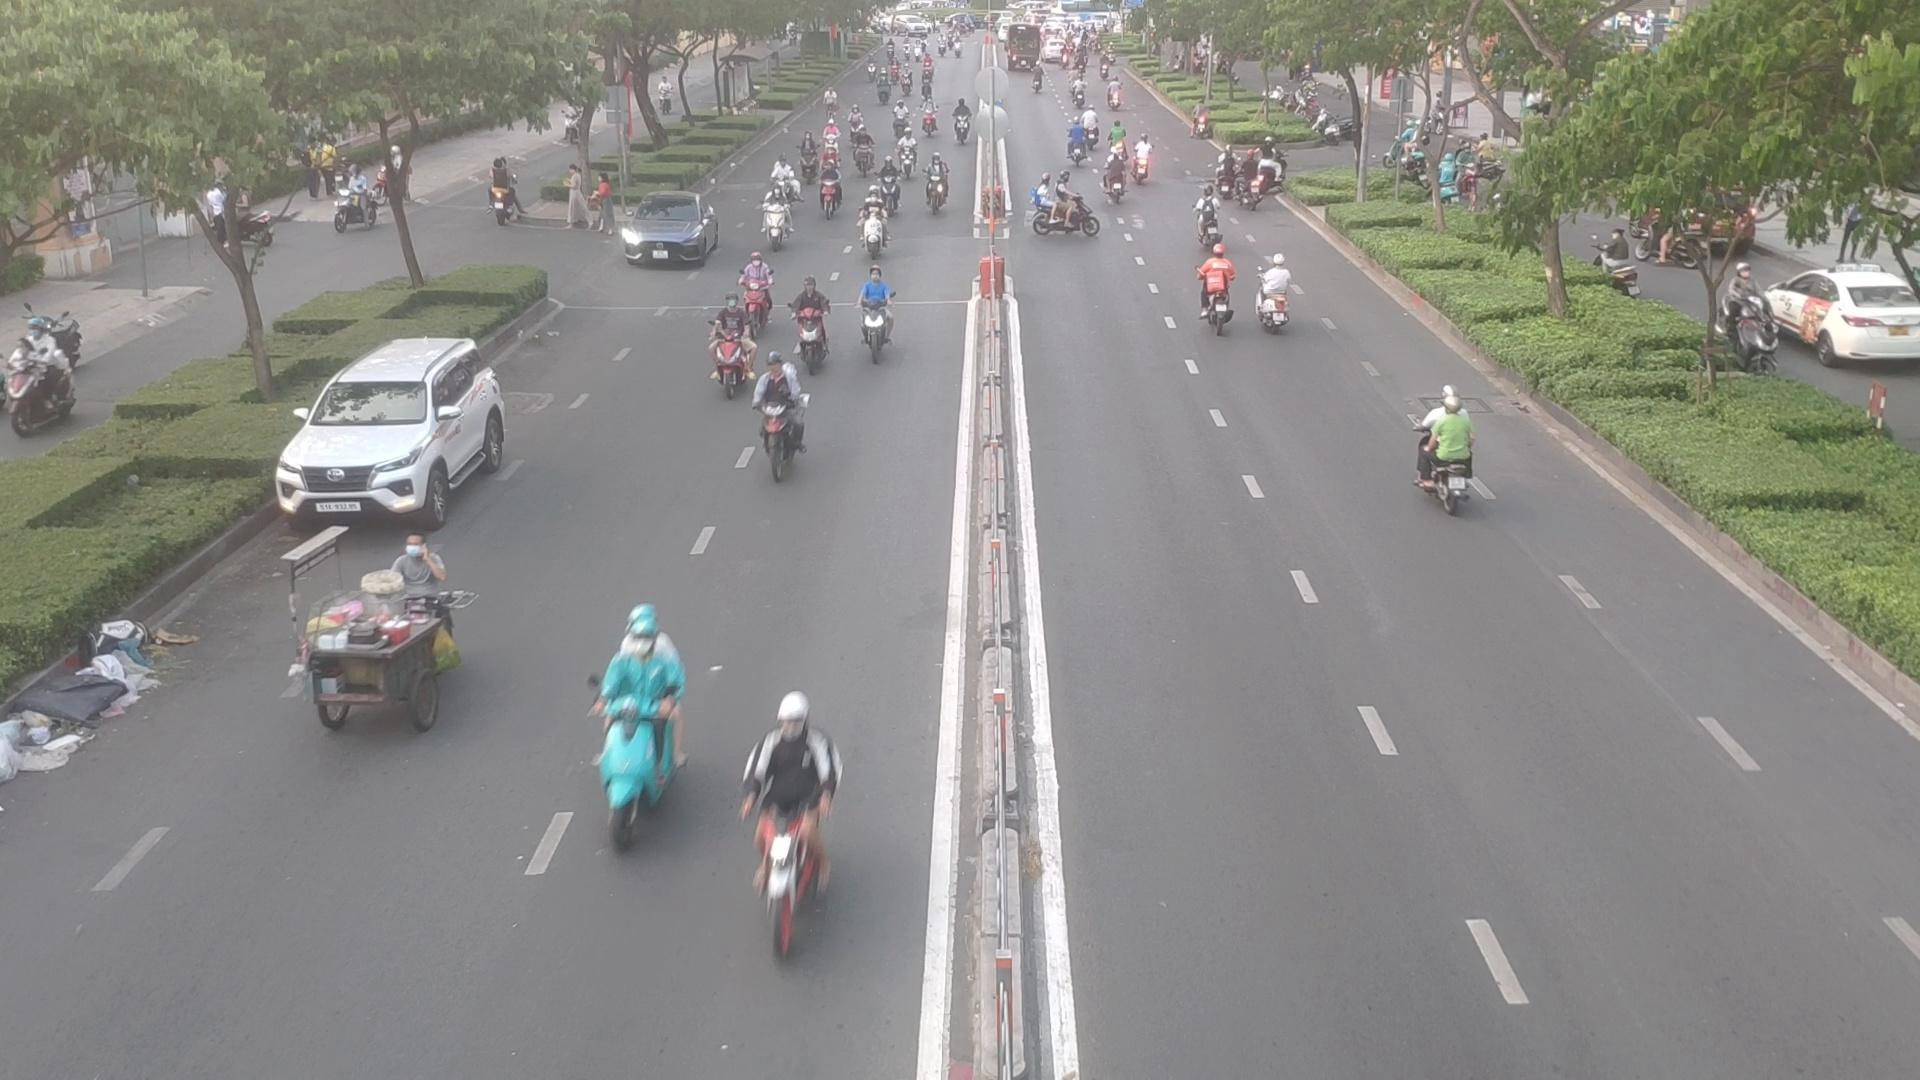car: (282, 331, 520, 522), (612, 196, 721, 269)
motorbike: (585, 615, 688, 848), (746, 699, 845, 893), (1404, 394, 1490, 514), (754, 349, 820, 483), (695, 297, 757, 392), (852, 272, 902, 363), (1033, 185, 1104, 244), (1196, 255, 1245, 335), (794, 278, 839, 361), (1257, 260, 1302, 336), (731, 255, 775, 324), (1230, 146, 1265, 210), (855, 200, 890, 258), (1197, 185, 1229, 247), (758, 196, 793, 251), (916, 166, 948, 218), (1097, 156, 1127, 204), (1127, 138, 1158, 186), (819, 167, 847, 218)
